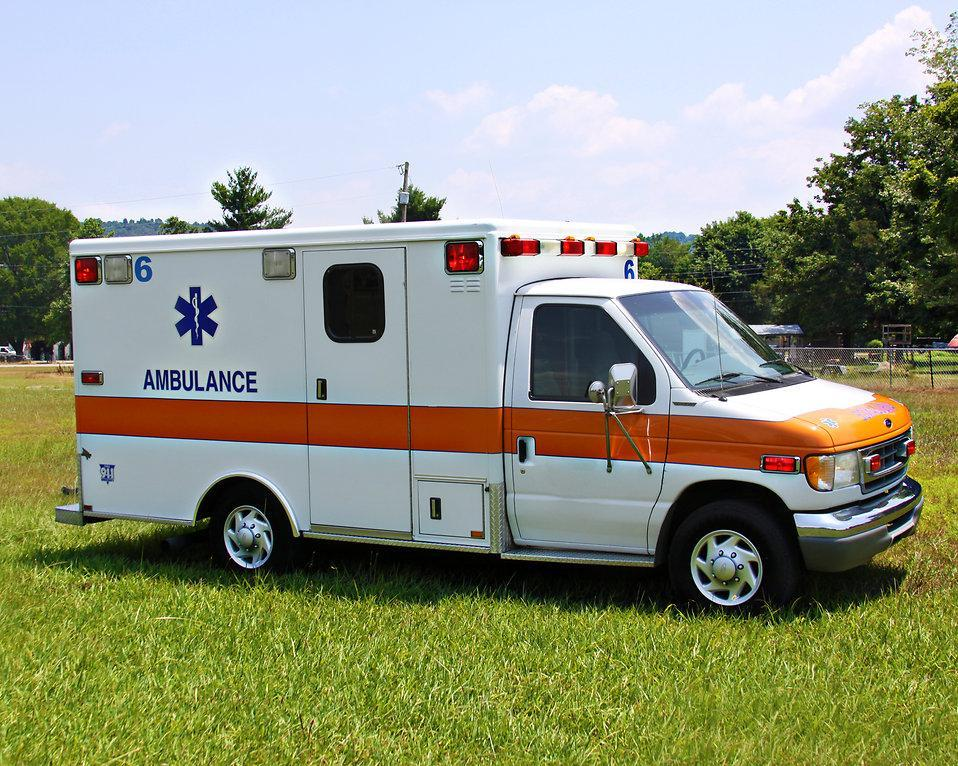Ambulance: (170, 285, 226, 351)
